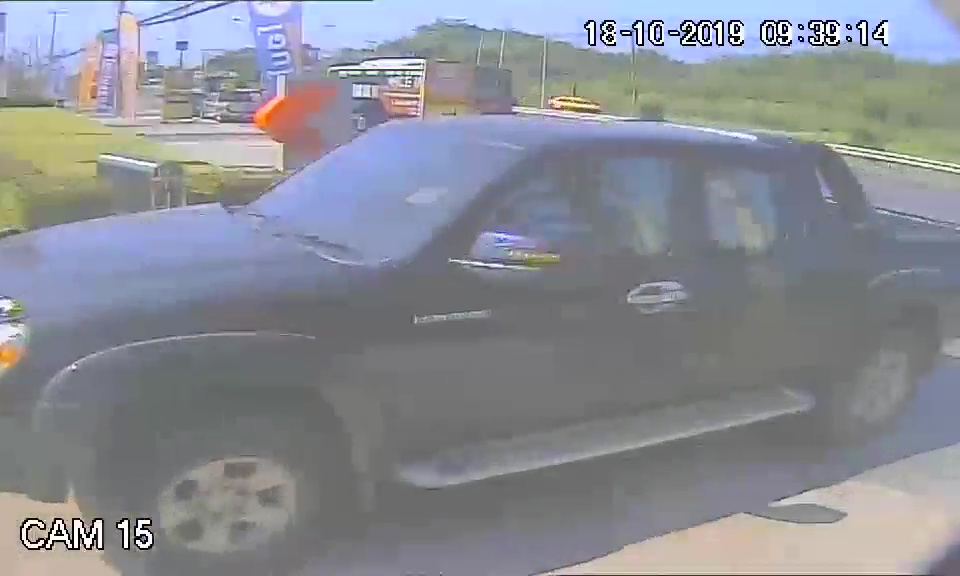pickup: (1, 117, 960, 510)
